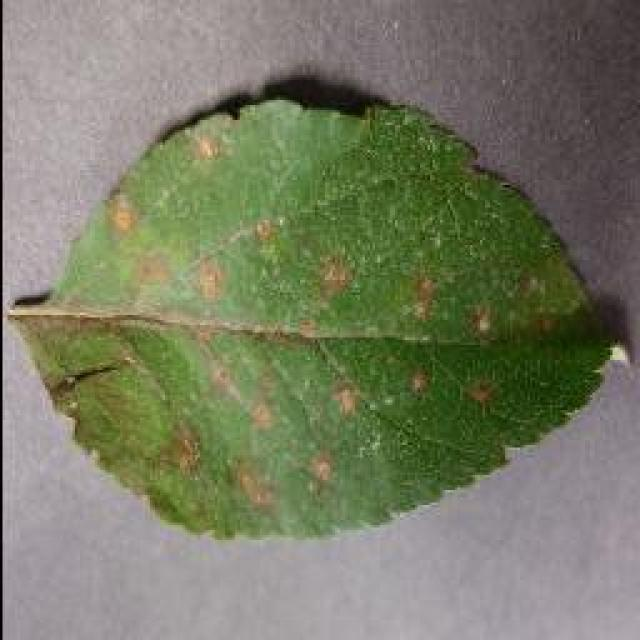apple cedar apple rust: (8, 82, 620, 542)
